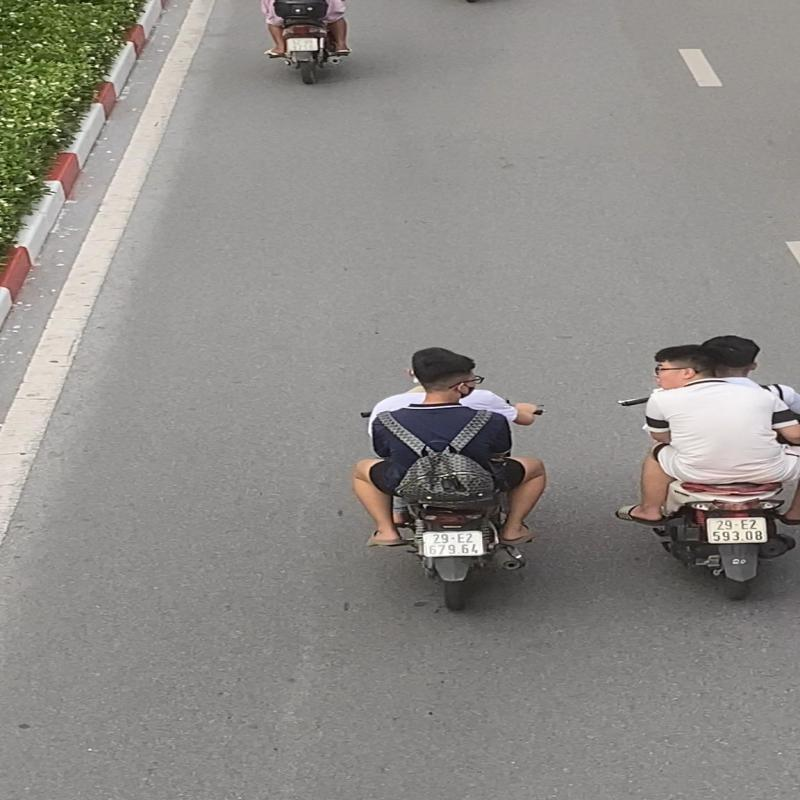licenseplate: (705, 516, 770, 548), (422, 530, 486, 558)
motorcyclist: (352, 347, 558, 614), (612, 332, 799, 604)
nohelmet: (700, 332, 764, 378), (419, 356, 481, 400), (654, 346, 715, 388), (405, 348, 462, 380)
